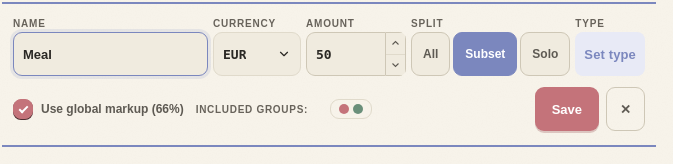
EditRow › FE-EDT-013 renders color dots instead of count when couples are selected
Check: the number of elements with class "who-dot" is 2, box [339, 104, 349, 114]; [353, 104, 363, 114]
Check: the 2nd element with class "who-dot" has style "backgroundColor: #C4737A", box [339, 104, 349, 114]
Focus the button named "Change included groups" at [351, 109], box [330, 99, 372, 119]
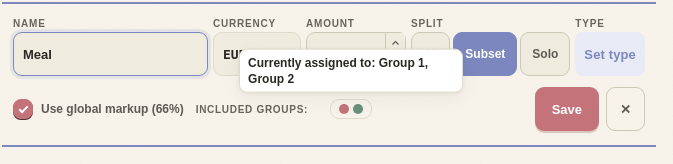
Check: the tooltip shows "Group 1, Group 2", box [248, 56, 428, 86]
